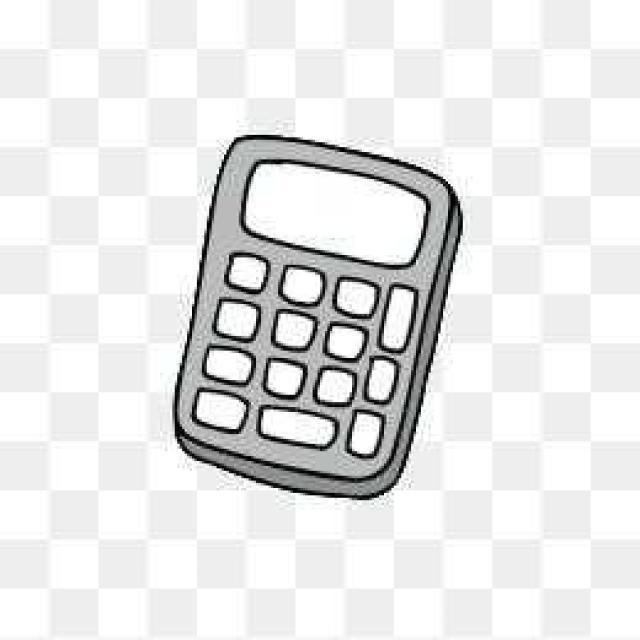Calculator: (175, 135, 460, 498)
